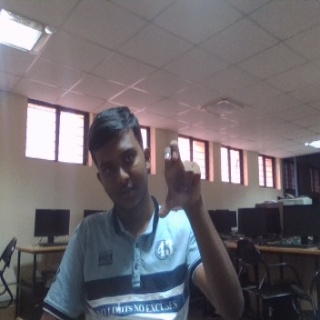Face: (83, 106, 153, 212)
No: (155, 138, 206, 220)
